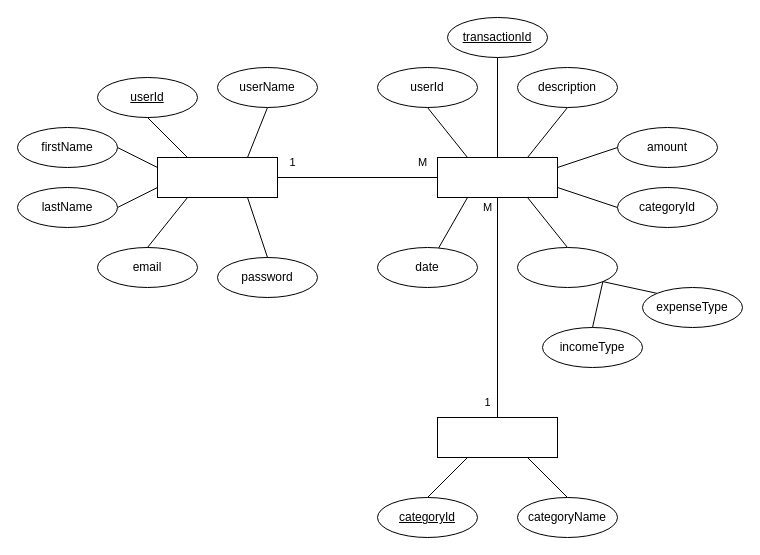
Some shapes in this 760 by 555 pixel diagram are drawn without their labels. Here are the shapes that lost their labels. From the top down, the box of each, then its label:
(156, 156, 278, 198): user
(436, 156, 558, 198): transaction
(516, 246, 618, 288): type
(436, 416, 558, 458): category
